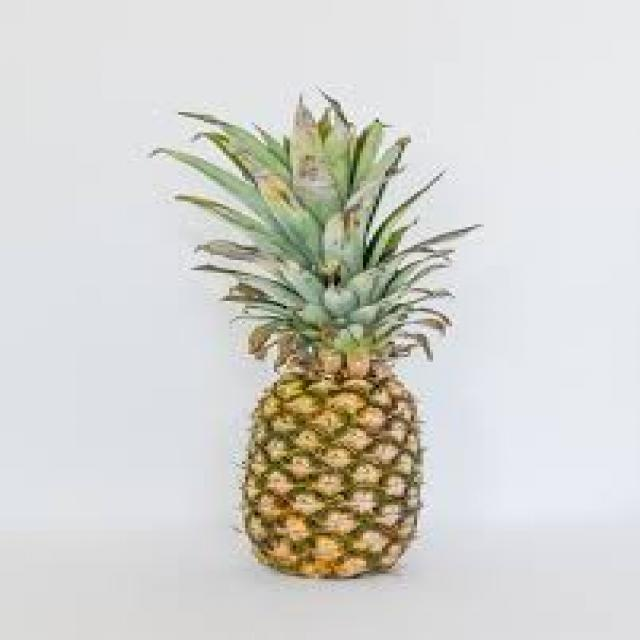pineapple: (236, 99, 430, 582)
